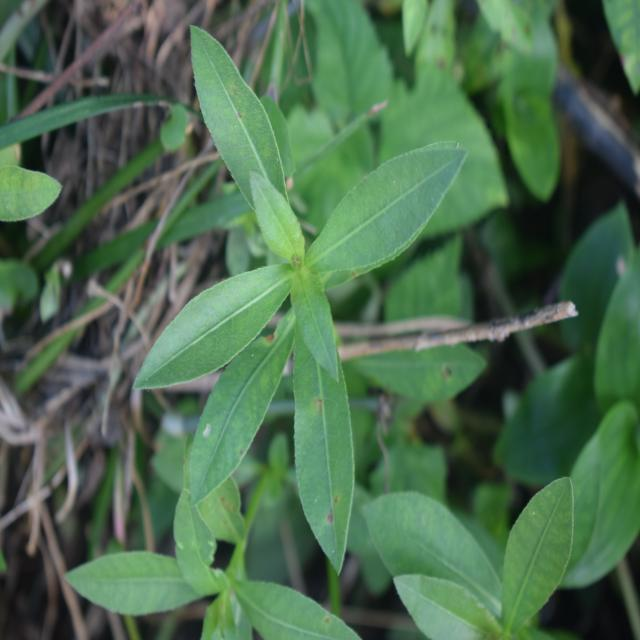Alligatorweed: (156, 40, 471, 556)
